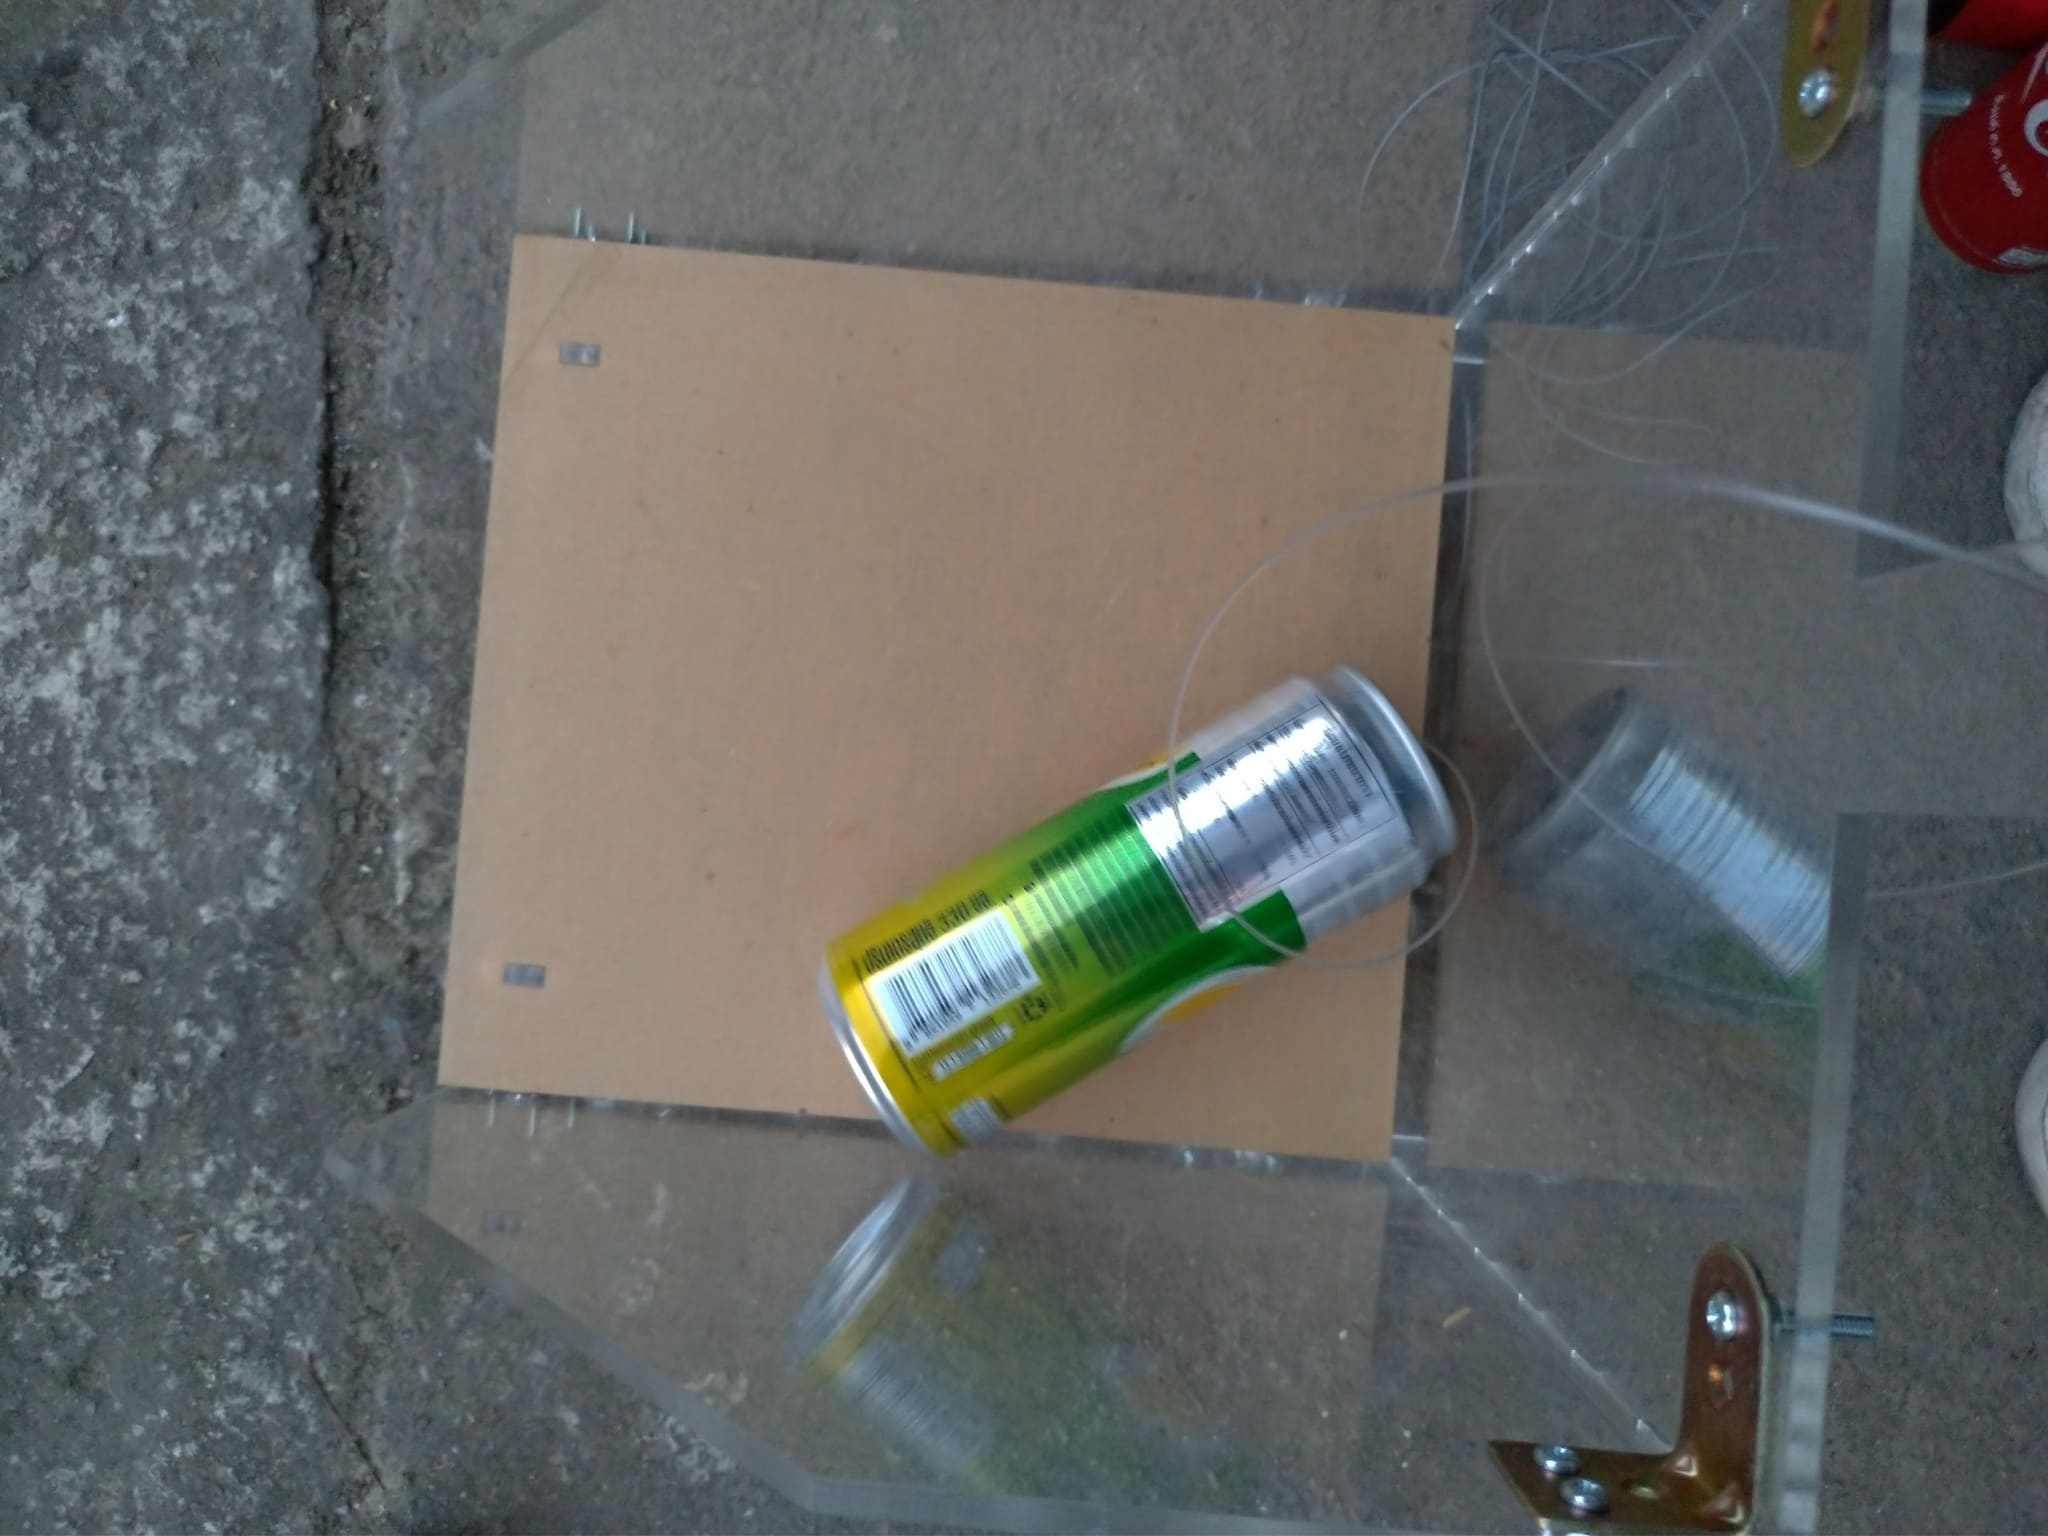AlCan: (822, 666, 1456, 1157), (1913, 31, 2048, 279)
